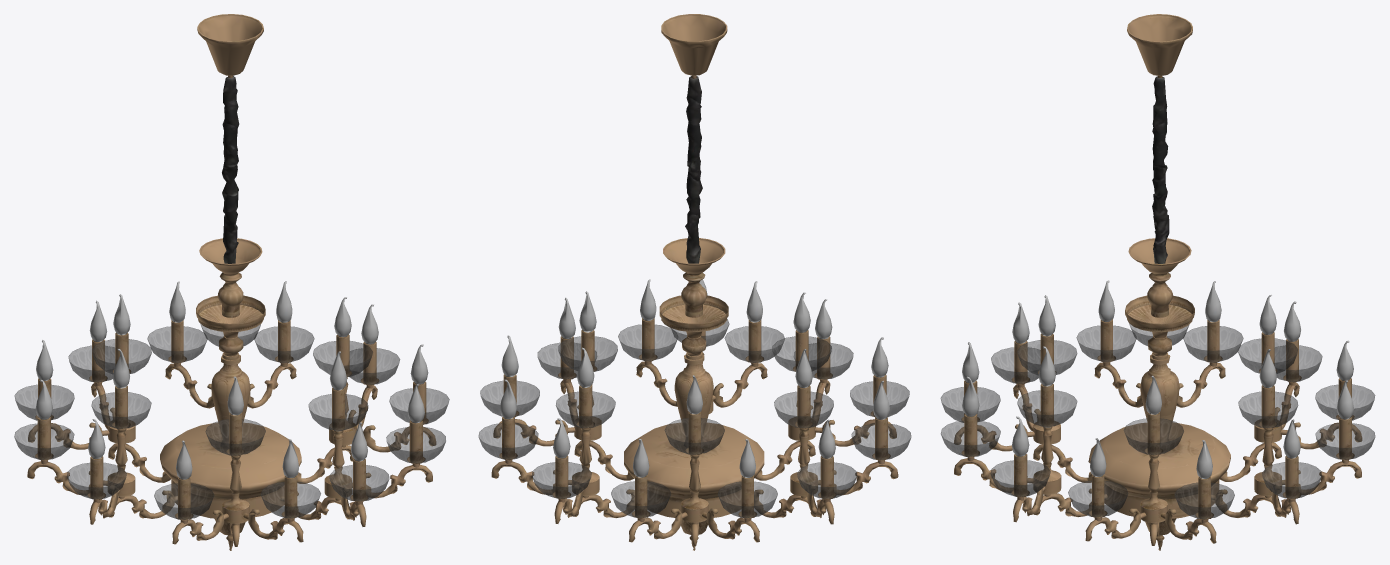
File: Chandelier_03.glb
3 renders of one model, left to right at view 1: azimuth 30°, elevation 25°; view 2: azimuth 150°, elevation 25°; view 3: azimuth 270°, elevation 25°, orthographic.
Parts seen in each view (by area): view 1: Chandelier_03; view 2: Chandelier_03; view 3: Chandelier_03.
Part boxes in pixels (left/top/right/bottom): Chandelier_03: left=14, top=14, right=449, bottom=550; Chandelier_03: left=478, top=14, right=911, bottom=550; Chandelier_03: left=940, top=14, right=1375, bottom=550.
Size of the model in its own units: 0.7804 by 1.04 by 0.7852.
Materials: 2 (2 with a texture image).
